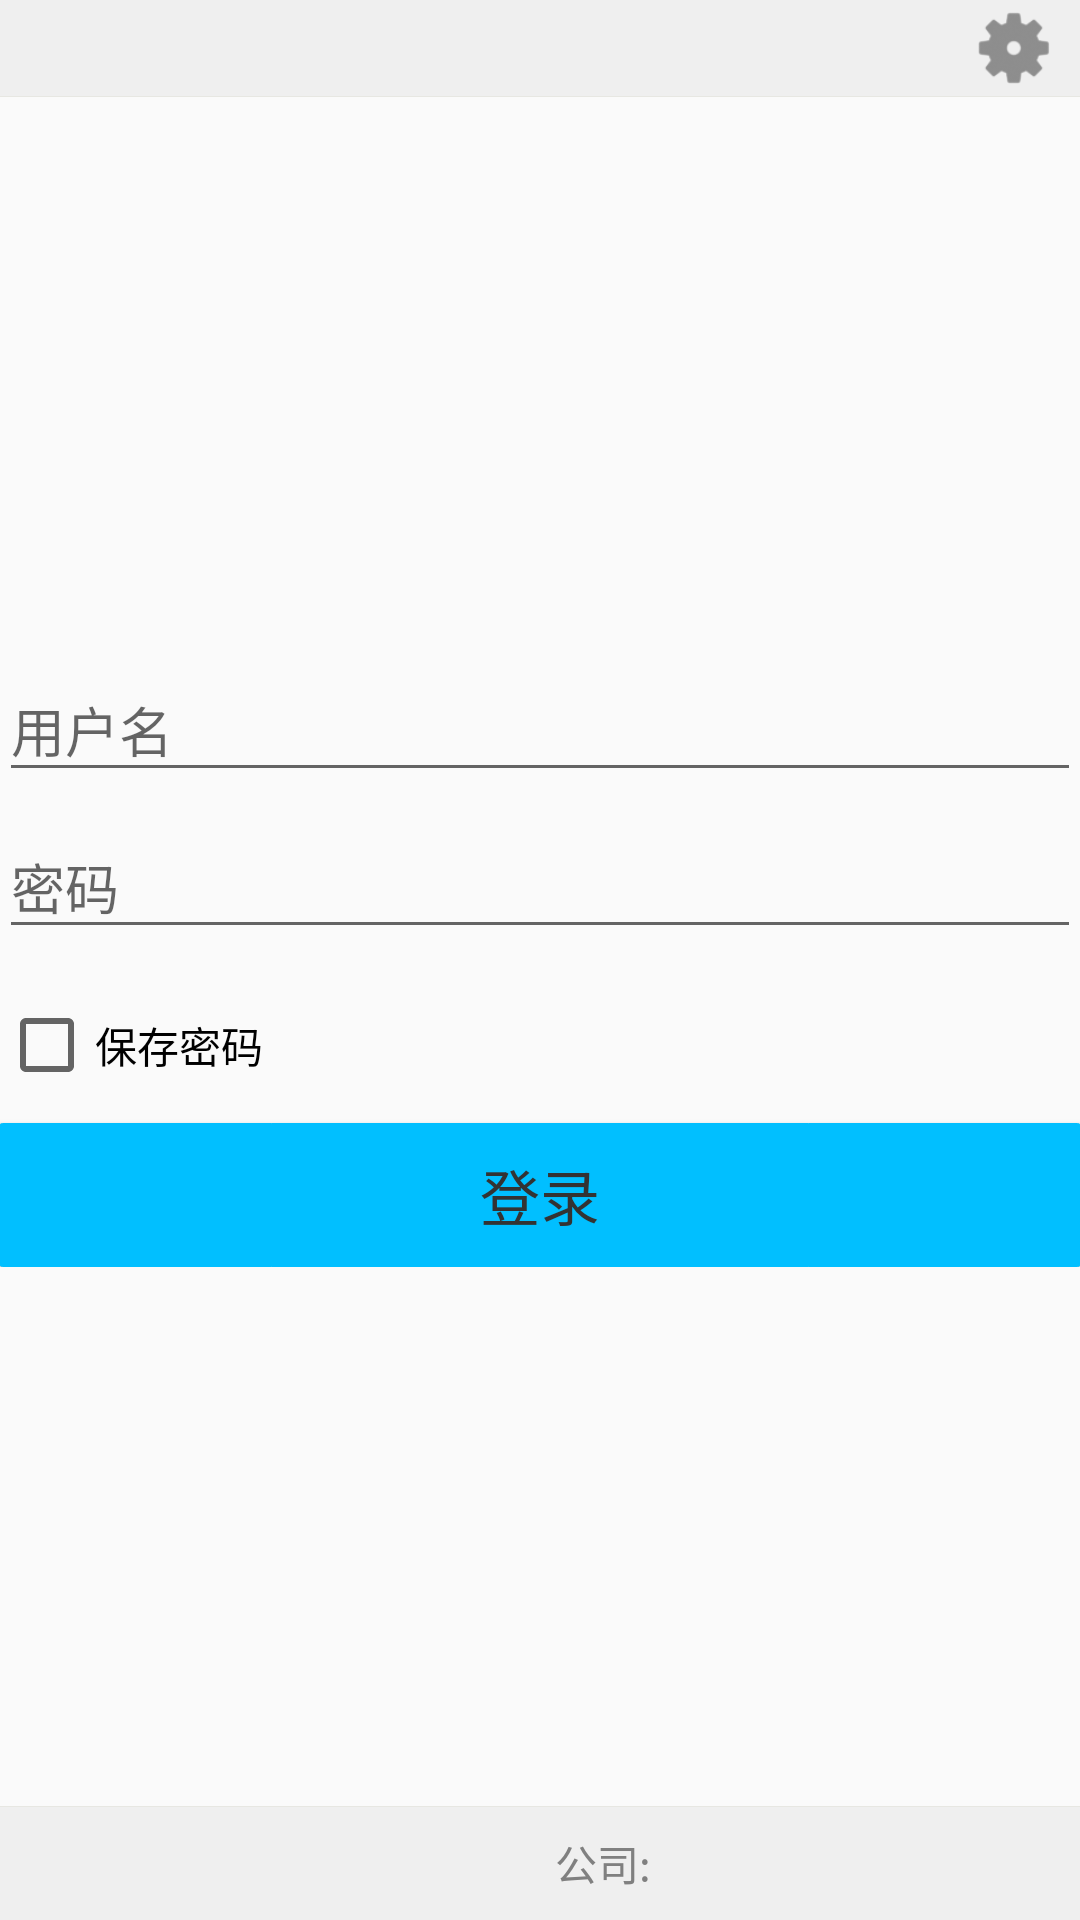

Icon bounding boxes for this 1080px×1920px phone screenshot, format (x1=x1, y1=y1, x2=x2, y2=y2):
settings: (x1=979, y1=13, x2=1049, y2=83)
